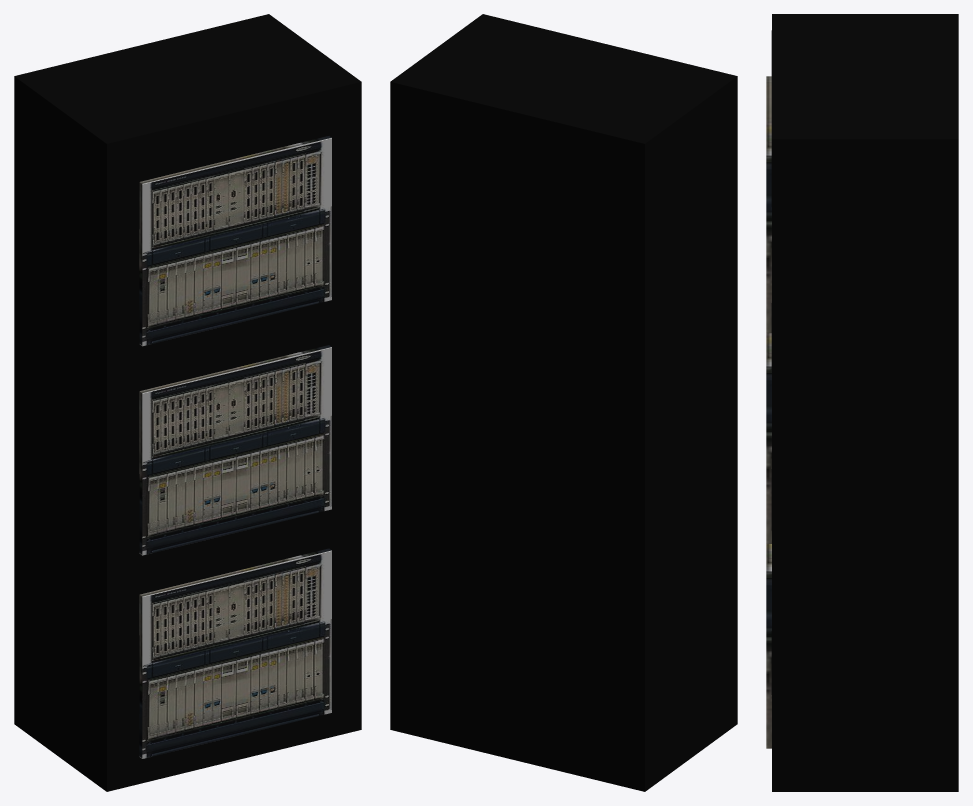
Rendered from ETSI.gltf.
3 renders of one model, left to right at view 1: azimuth 30°, elevation 25°; view 2: azimuth 150°, elevation 25°; view 3: azimuth 270°, elevation 25°, orthographic.
Parts seen in each view (by area): view 1: 立方体, 立方体.003, 立方体.002, 立方体.001; view 2: 立方体; view 3: 立方体, 立方体.001, 立方体.002, 立方体.003.
Boxes of the visible parts, x1,y1,x2,y2 form: 立方体: [14, 14, 361, 791]; 立方体.003: [139, 548, 331, 758]; 立方体.002: [139, 345, 331, 555]; 立方体.001: [139, 136, 331, 346]; 立方体: [390, 14, 737, 791]; 立方体: [771, 14, 958, 791]; 立方体.001: [766, 76, 771, 332]; 立方体.002: [766, 333, 771, 543]; 立方体.003: [766, 544, 771, 748].
Size of the model in its own units: 2 by 4.86 by 1.3.
